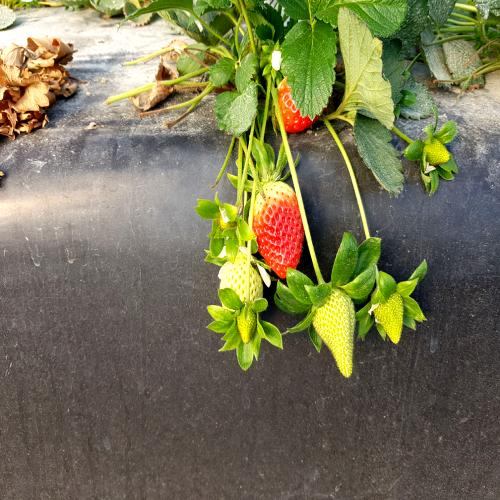ripe: (247, 167, 308, 281)
